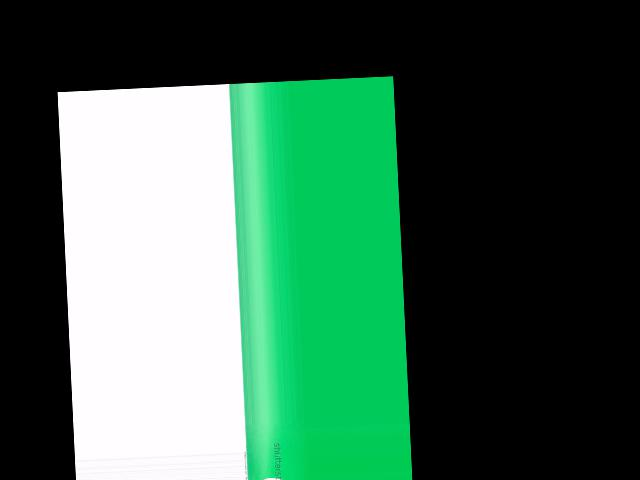egg: (253, 477, 293, 480)
